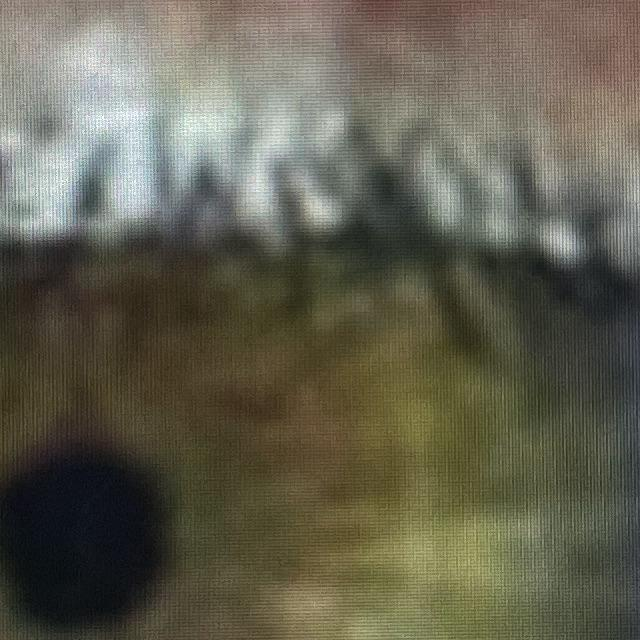eye: (0, 199, 640, 640)
iris: (0, 249, 640, 640)
